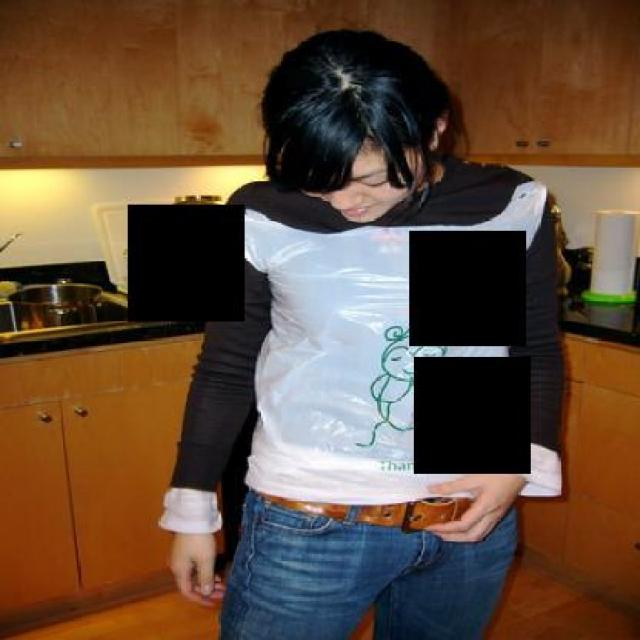plastic bag: (214, 180, 558, 506)
